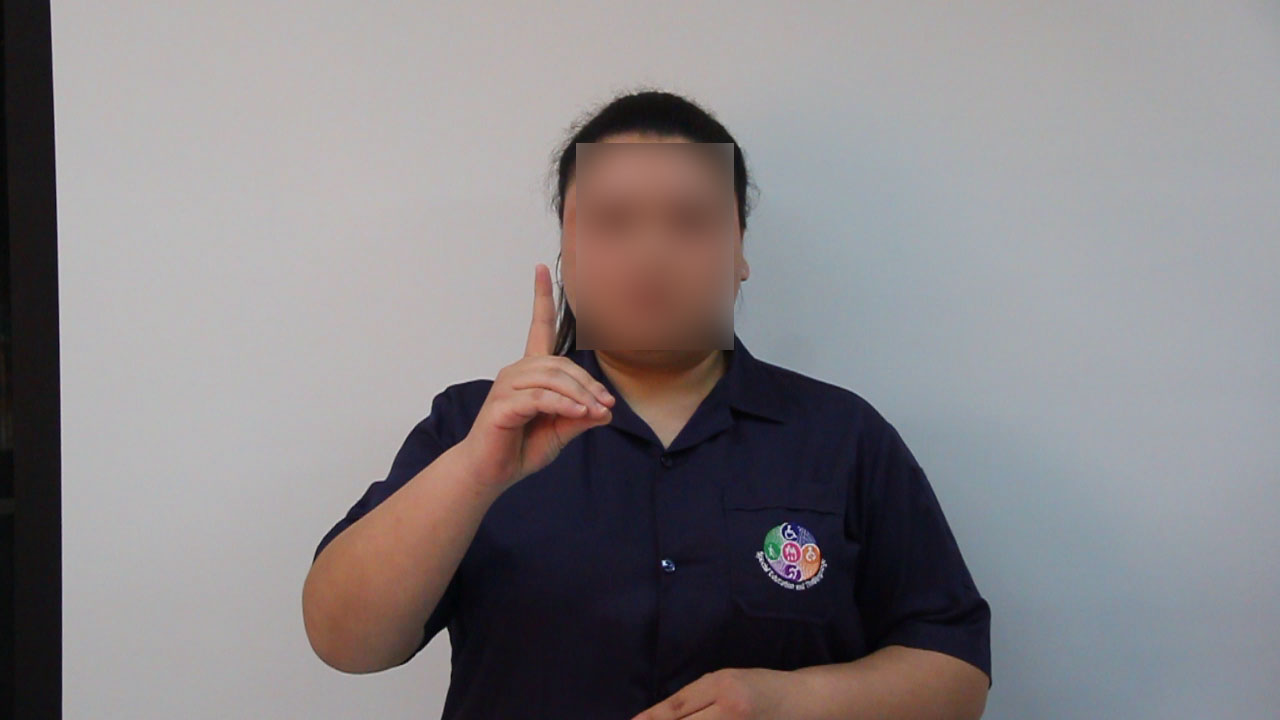dor: (457, 259, 624, 487)
